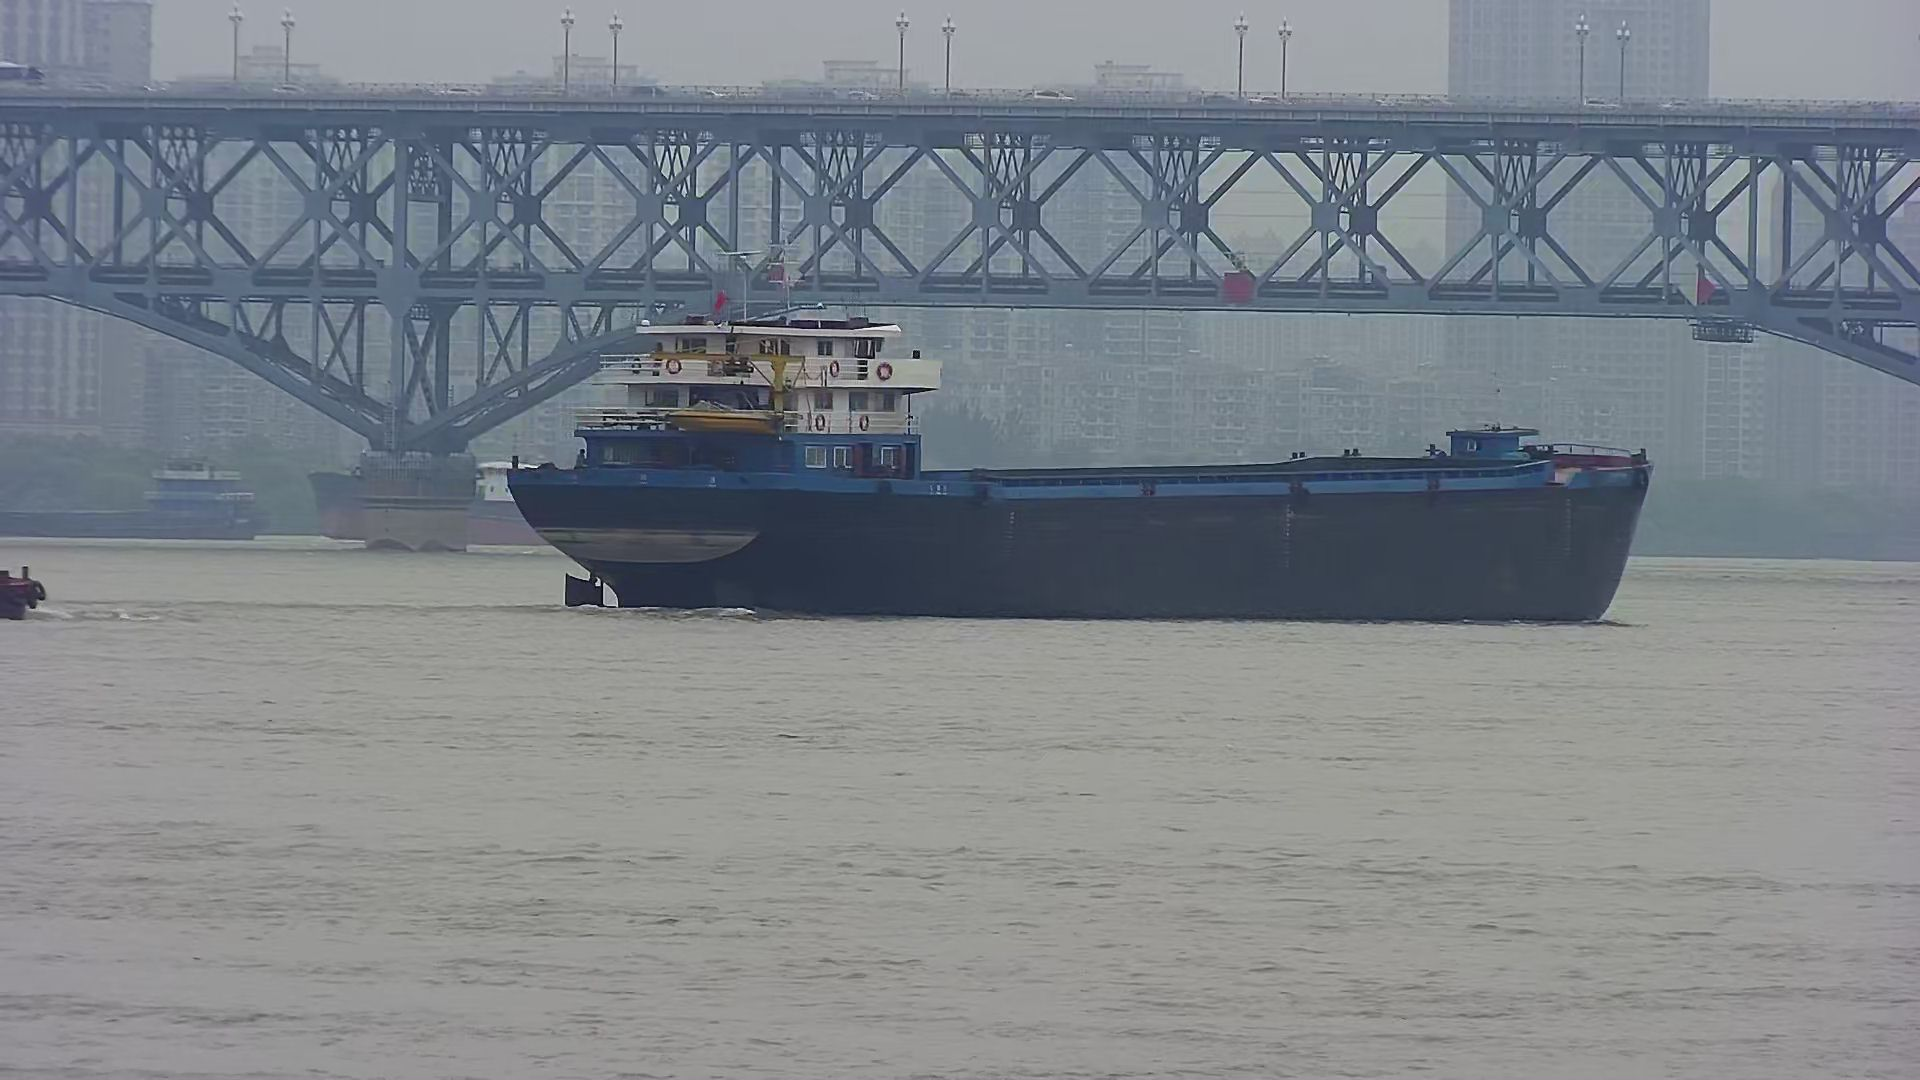bridge: (1, 73, 1912, 566)
ship: (489, 223, 1671, 620), (1, 446, 289, 549)
